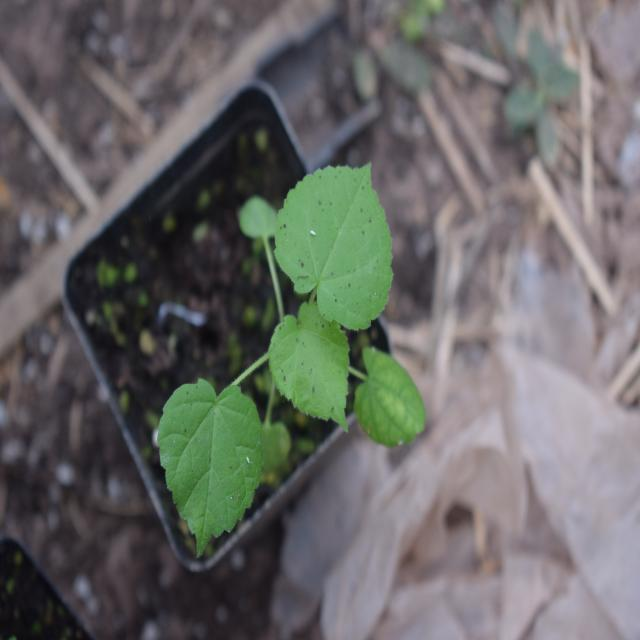abutilon theophrasti: (145, 142, 421, 535)
